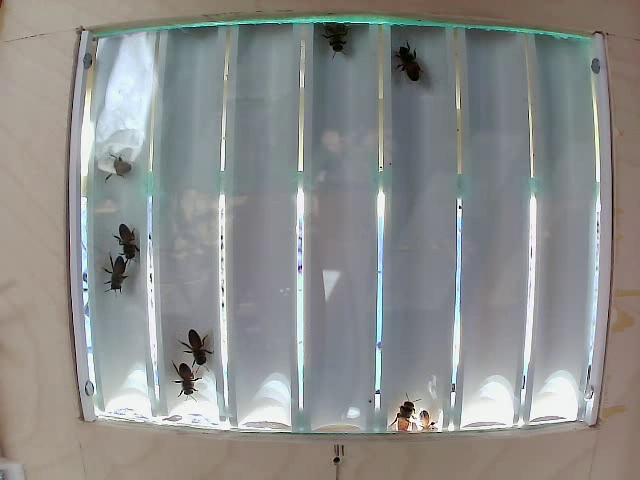bee: (178, 325, 230, 377), (109, 213, 159, 267), (96, 243, 133, 309), (170, 363, 211, 412), (318, 26, 354, 74), (392, 38, 424, 91)
